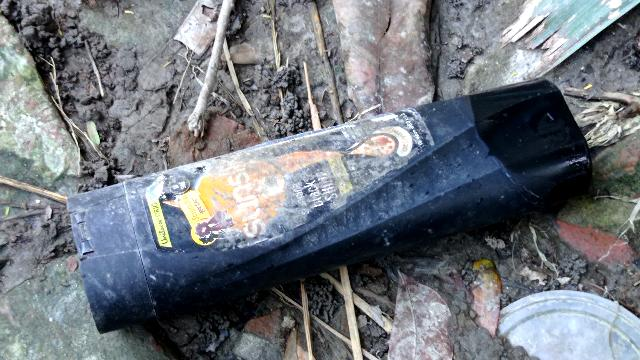hardplastic: (60, 49, 593, 330)
